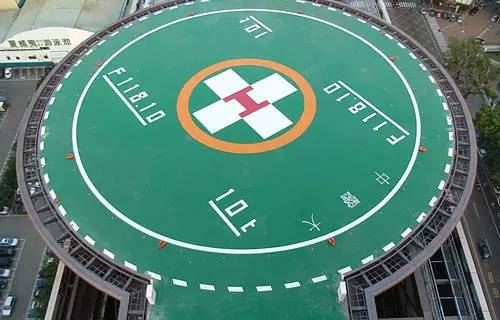Apron: (174, 58, 317, 155)
